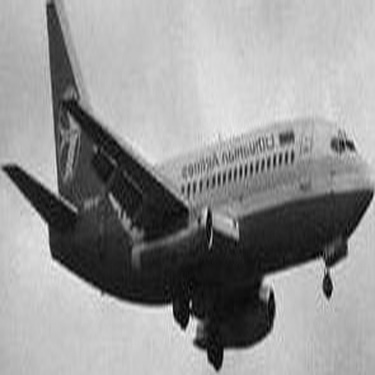airplane: (2, 9, 368, 355)
